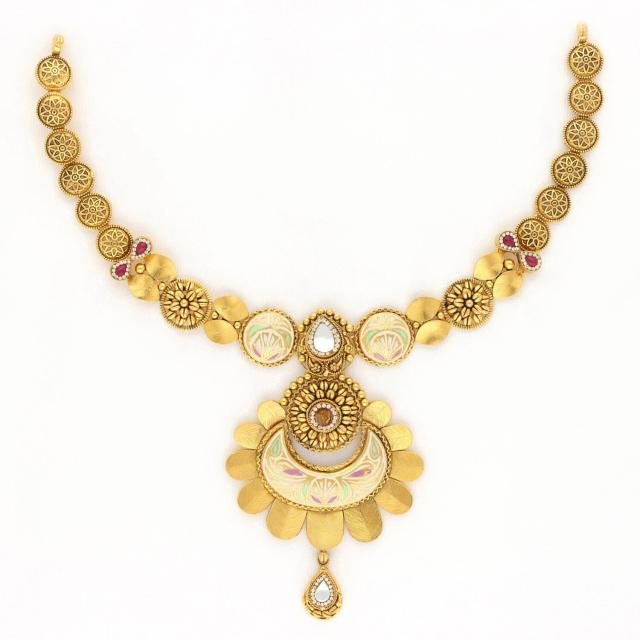missing gem: (315, 408, 333, 426)
